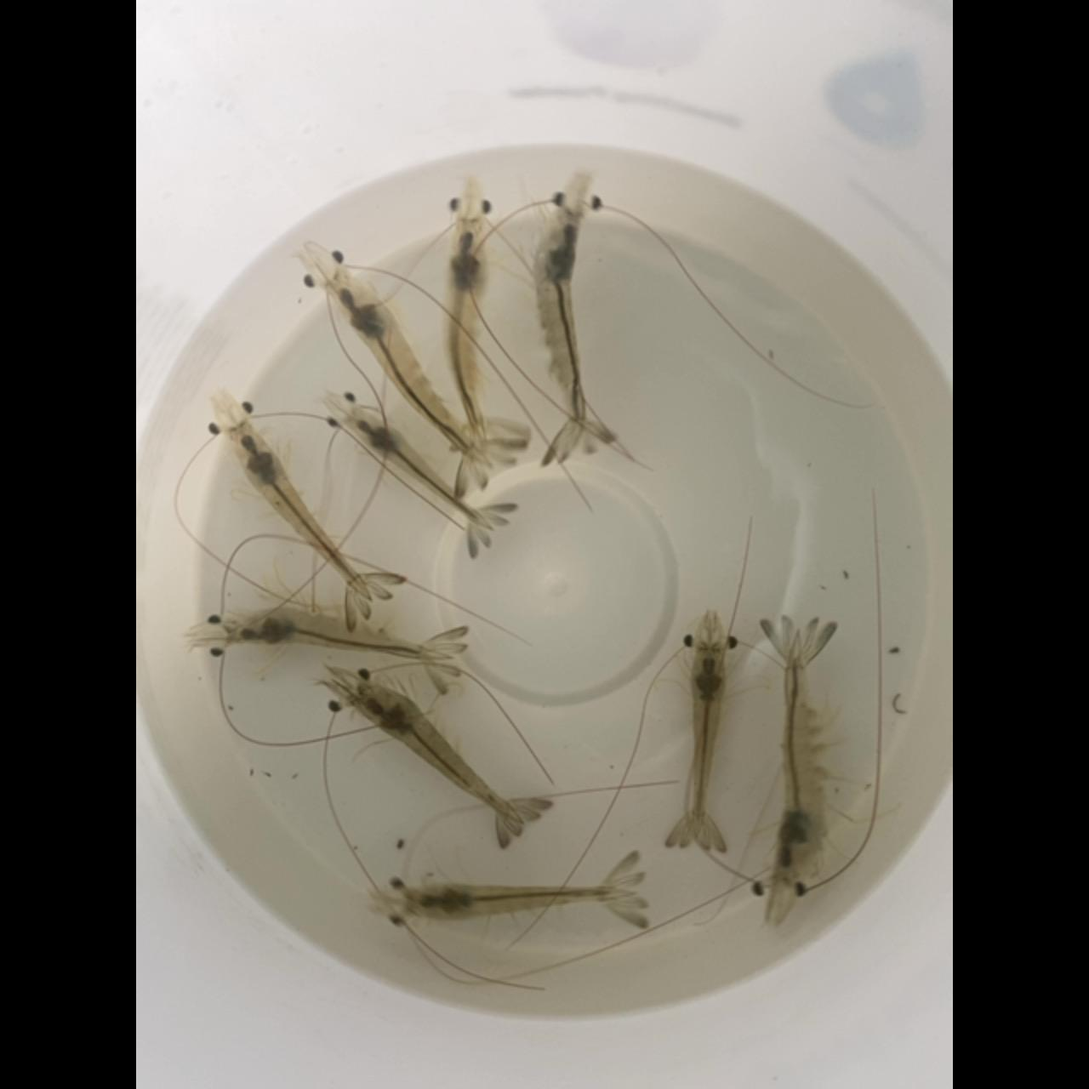top_shrimp: (322, 271, 498, 472), (224, 424, 374, 601), (351, 684, 527, 826), (344, 409, 494, 531), (773, 629, 825, 879), (226, 605, 456, 659), (533, 211, 585, 446), (445, 216, 489, 452), (406, 883, 640, 920), (691, 645, 727, 847)
